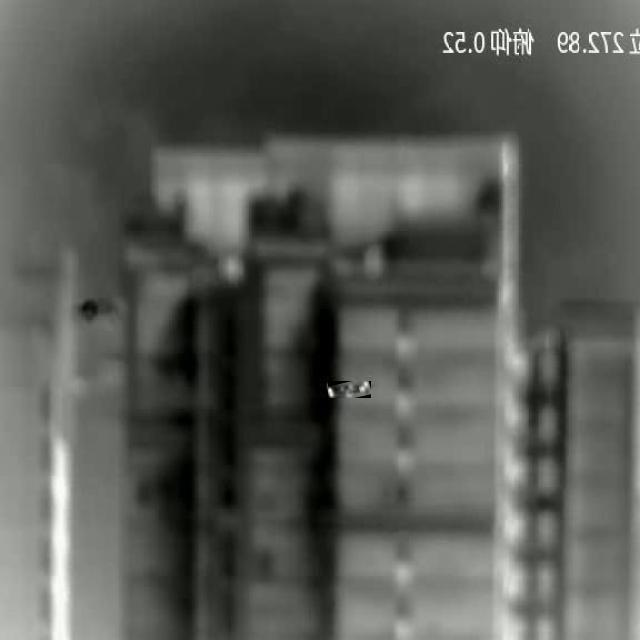drone: (328, 381, 370, 398)
